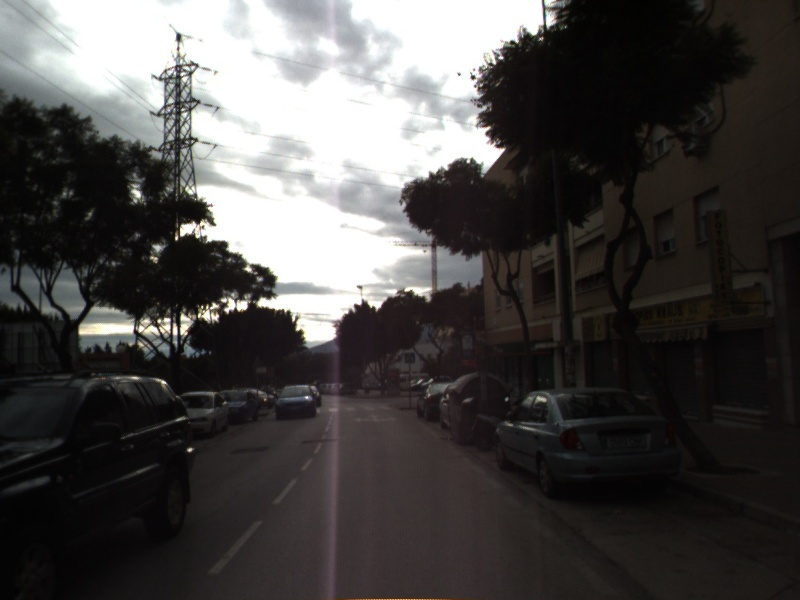STRAIGHT_LEFT_RIGHT: (351, 412, 399, 424)
